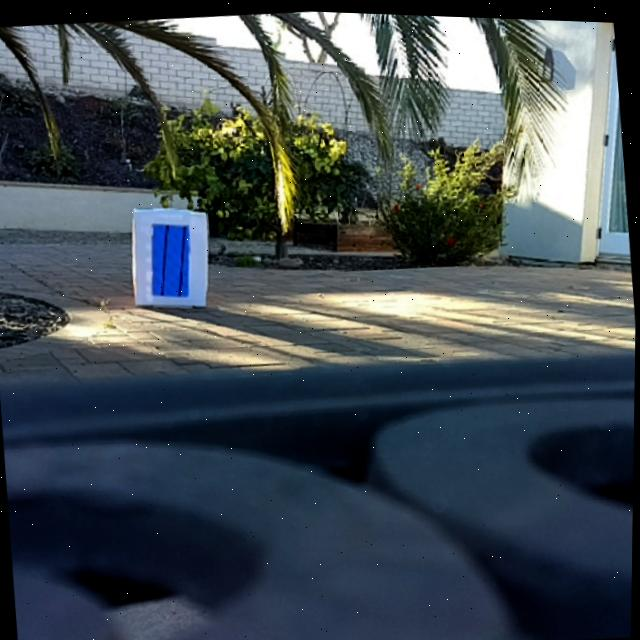led: (145, 217, 196, 299)
